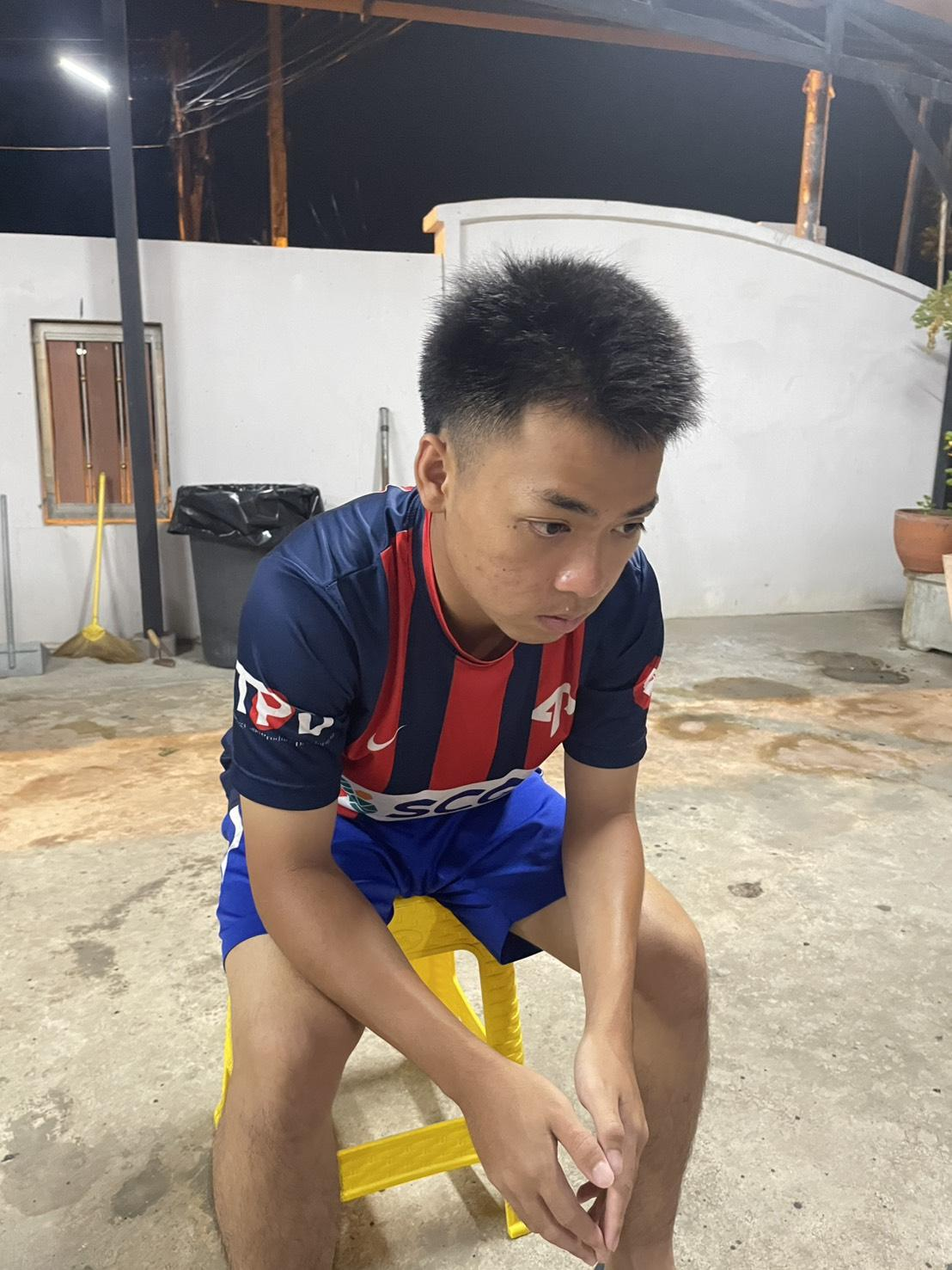BadPosture: (222, 255, 699, 907)
